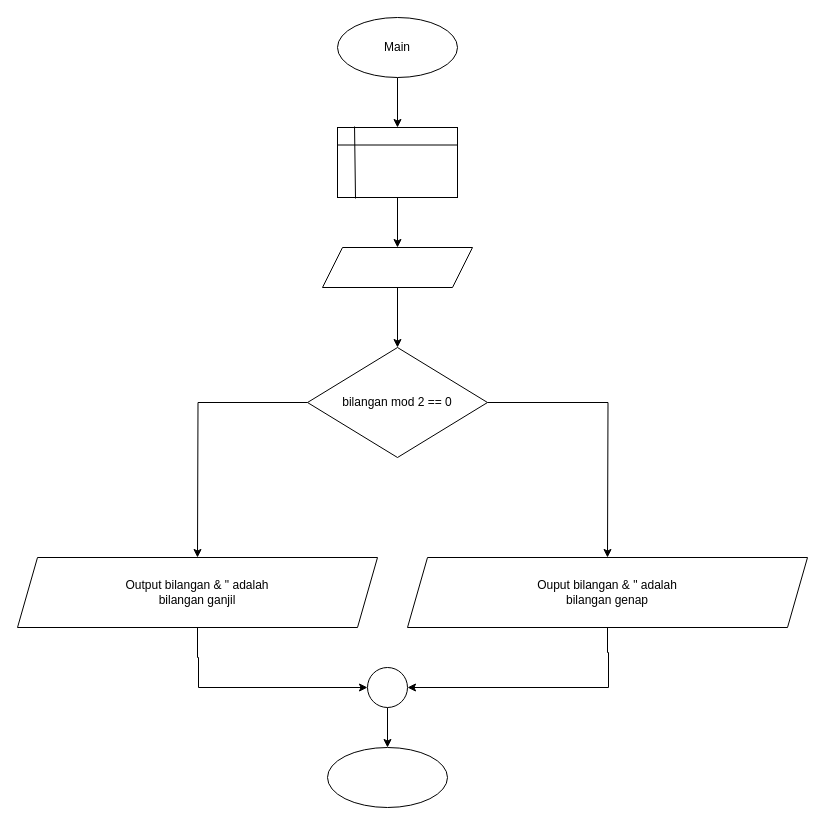
The diagram is 825 pixels wide and 825 high, and some of its shapes have lost their labels. The box of each missing label's shape, as (x1, y1, x2, y2) in pixels:
End: (326, 746, 448, 808)
Input bilngan: (322, 246, 472, 288)
